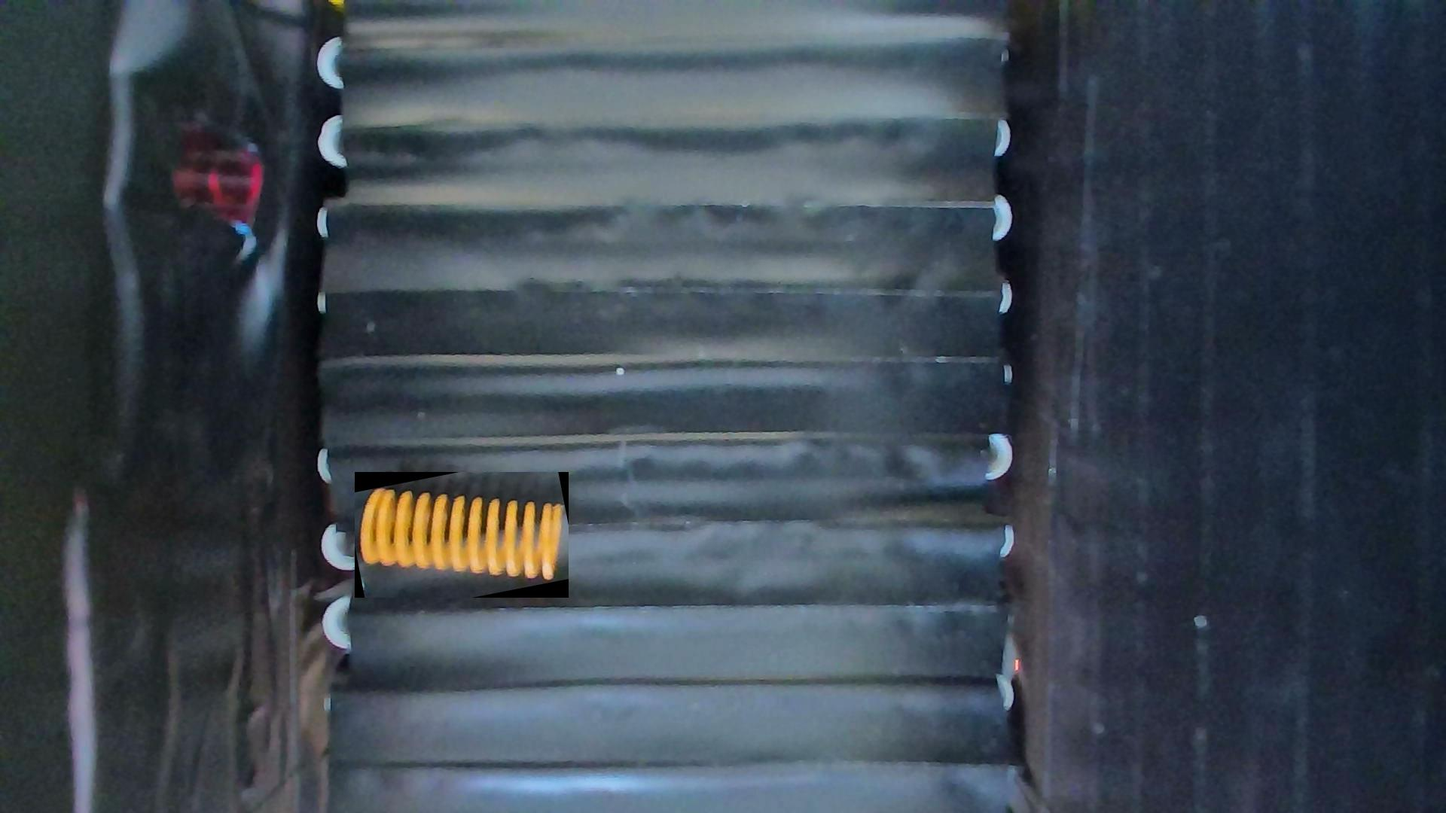spring: (355, 472, 569, 598)
